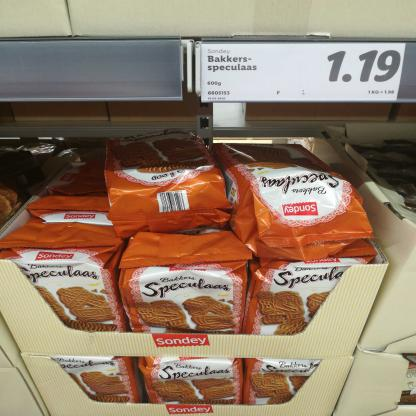prtg: (201, 44, 407, 103)
